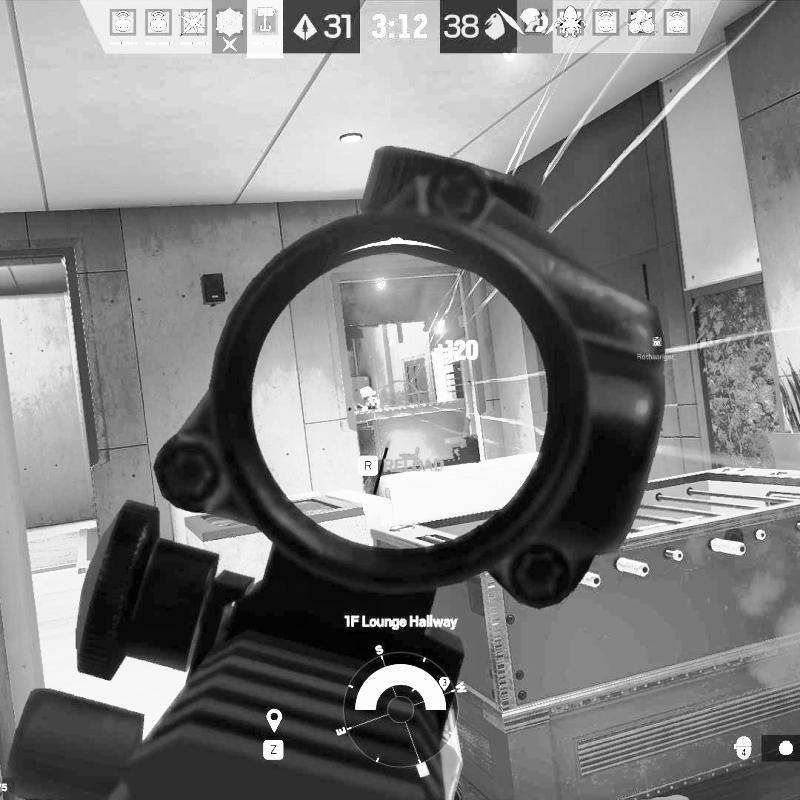Character: (355, 386, 381, 411)
Friend_label: (636, 334, 676, 362)
Head: (360, 387, 376, 403)
